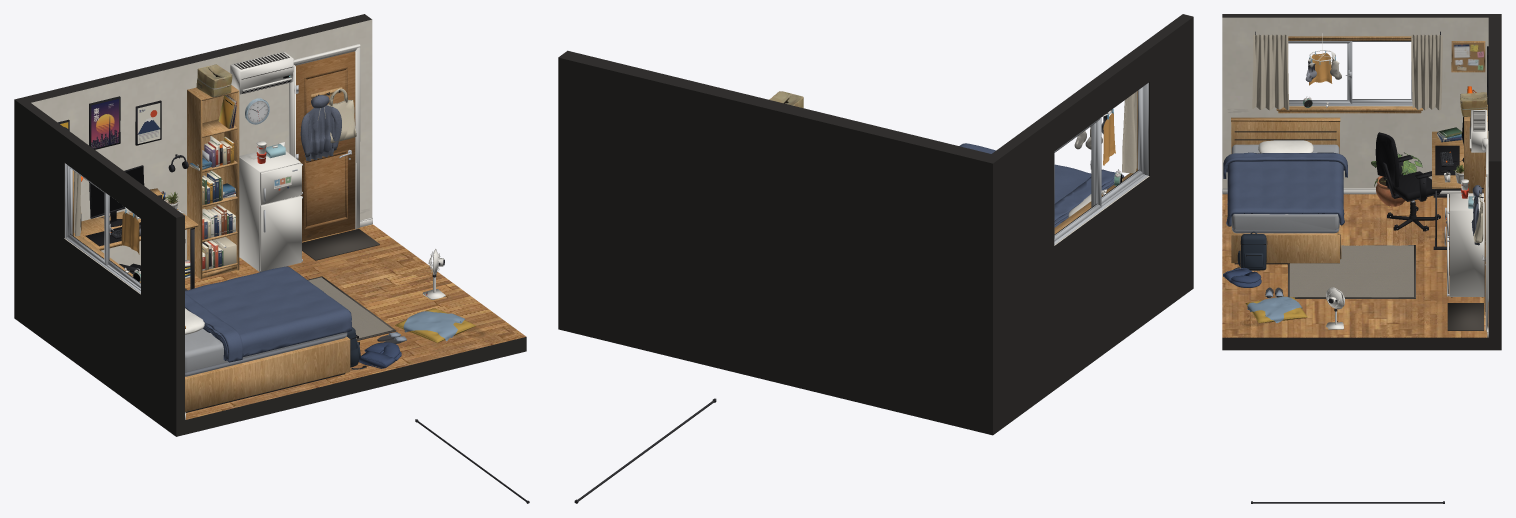
The model's file is room_phone.glb.
The picture shows the model from 3 angles, left to right: view 1: azimuth 30°, elevation 25°; view 2: azimuth 150°, elevation 25°; view 3: azimuth 270°, elevation 25°; orthographic projection. The views are drawn at different scales.
Parts seen in each view (by area): view 1: room_static, hangers_mesh, cardboard_box_01; view 2: room_static; view 3: room_static, chair_mesh, hangers_mesh, cardboard_box_01, potted_plant_02_pot, potted_plant_02_leaves.
Part boxes in pixels (x1,y1,x2,y2): room_static: [14, 14, 529, 503]; hangers_mesh: [300, 87, 356, 161]; cardboard_box_01: [196, 64, 232, 97]; room_static: [558, 14, 1193, 503]; room_static: [1222, 14, 1501, 503]; chair_mesh: [1375, 132, 1441, 231]; hangers_mesh: [1471, 184, 1484, 245]; cardboard_box_01: [1460, 92, 1487, 116]; potted_plant_02_pot: [1376, 176, 1405, 206]; potted_plant_02_leaves: [1371, 152, 1422, 186].
Size of the model in its own units: 4.27 by 4.23 by 3.2.
54 materials, 29 textured.
